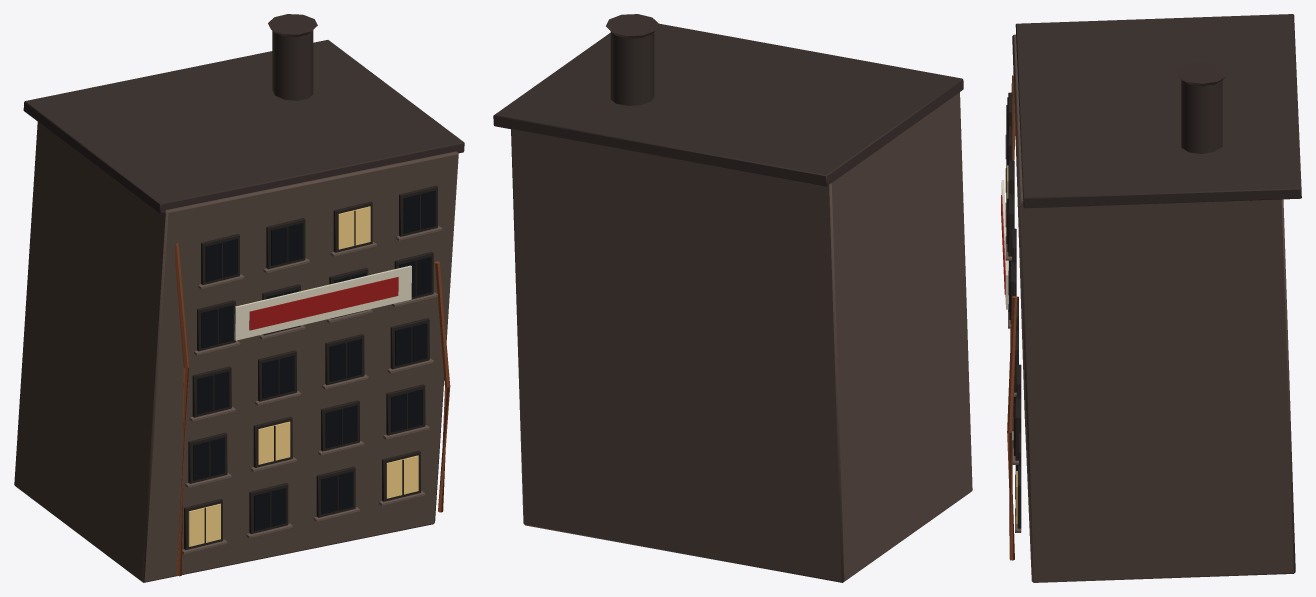
The model's file is sunk_tenement.glb.
The picture shows the model from 3 angles, left to right: view 1: azimuth 30°, elevation 25°; view 2: azimuth 150°, elevation 25°; view 3: azimuth 270°, elevation 25°; orthographic projection. The views are drawn at different scales.
Parts seen in each view (by area): view 1: sunk_tenement; view 2: sunk_tenement; view 3: sunk_tenement.
Boxes of the visible parts, box(x1,y1,x2,y2) form: sunk_tenement: box(14, 14, 464, 582); sunk_tenement: box(493, 14, 972, 582); sunk_tenement: box(1001, 14, 1301, 582).
Size of the model in its own units: 16.45 by 22.02 by 12.52.
